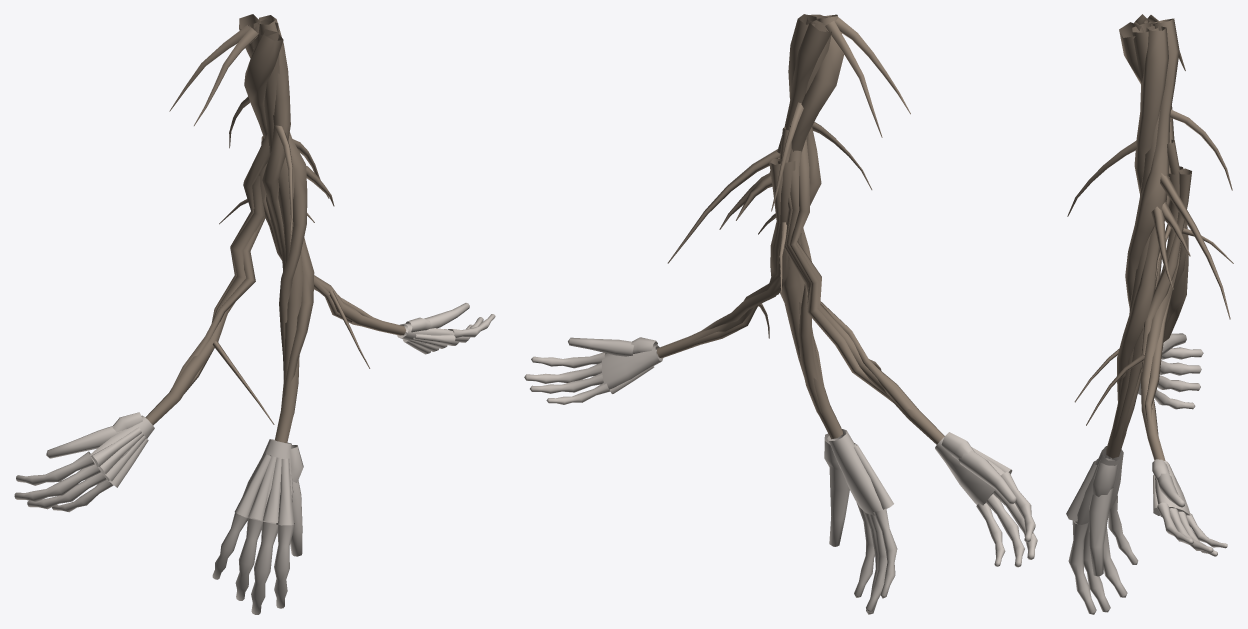
Rendered from HandRoot0.fbx.
3 renders of one model, left to right at view 1: azimuth 30°, elevation 25°; view 2: azimuth 150°, elevation 25°; view 3: azimuth 270°, elevation 25°, orthographic. The views are drawn at different scales.
Visible parts, largest first — view 1: HandRoot0; view 2: HandRoot0; view 3: HandRoot0.
Boxes of the visible parts, x1=… form: HandRoot0: x1=14, y1=14, x2=495, y2=614; HandRoot0: x1=524, y1=14, x2=1037, y2=614; HandRoot0: x1=1066, y1=14, x2=1233, y2=614.
Size of the model in its own units: 1.24 by 1.42 by 0.3576.
